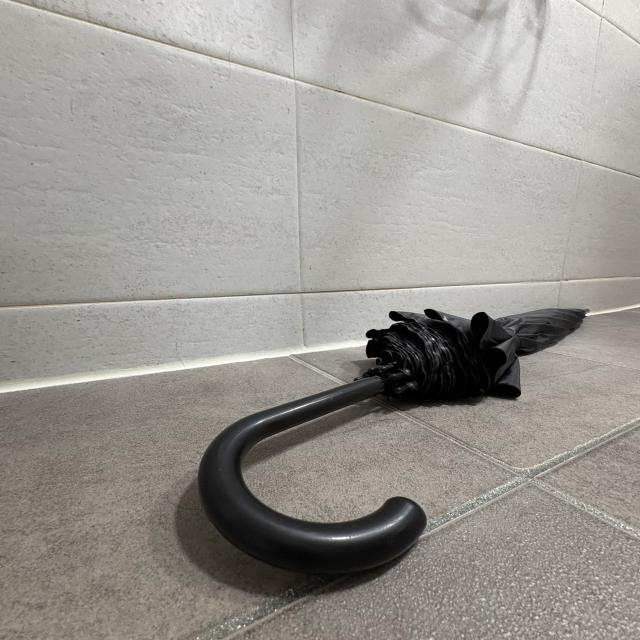umbrella: (199, 306, 596, 576)
